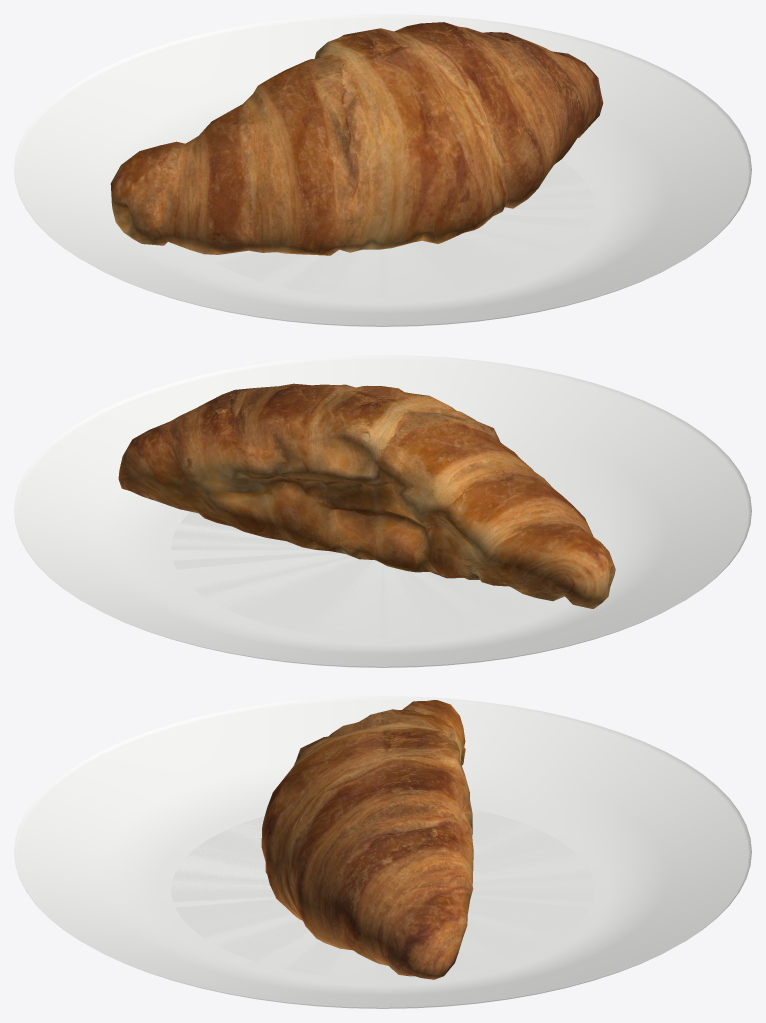
File: medialuna.glb
3 views of the same model, one above another, from view 1: azimuth 30°, elevation 25°; view 2: azimuth 150°, elevation 25°; view 3: azimuth 270°, elevation 25° (orthographic).
Visible parts, largest first — view 1: object 3, croissant, object 2; view 2: object 3, croissant, object 2; view 3: object 3, croissant, object 2.
Part boxes in pixels (<box>): object 3: <box>14,14,751,326</box>; croissant: <box>110,22,603,255</box>; object 2: <box>200,160,594,297</box>; object 3: <box>14,355,751,667</box>; croissant: <box>118,383,615,608</box>; object 2: <box>171,511,550,638</box>; object 3: <box>14,696,751,1008</box>; croissant: <box>261,700,473,979</box>; object 2: <box>171,809,594,979</box>.
Bounding box in the file's own units: 0.2626 × 0.066 × 0.2626.
Materials: 3 (1 with a texture image).
